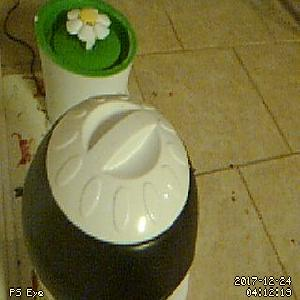fountain: (32, 1, 137, 78)
